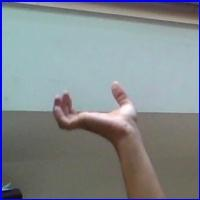B: (48, 83, 142, 146)
